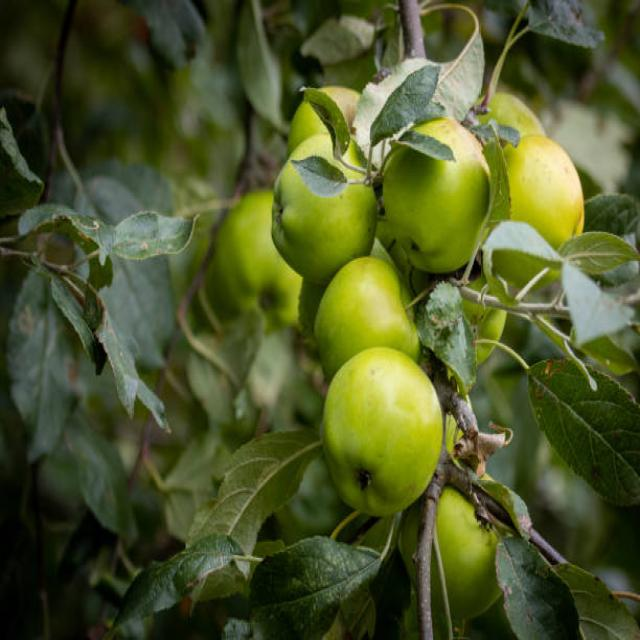Unripe: (318, 342, 442, 518), (269, 130, 377, 281)
